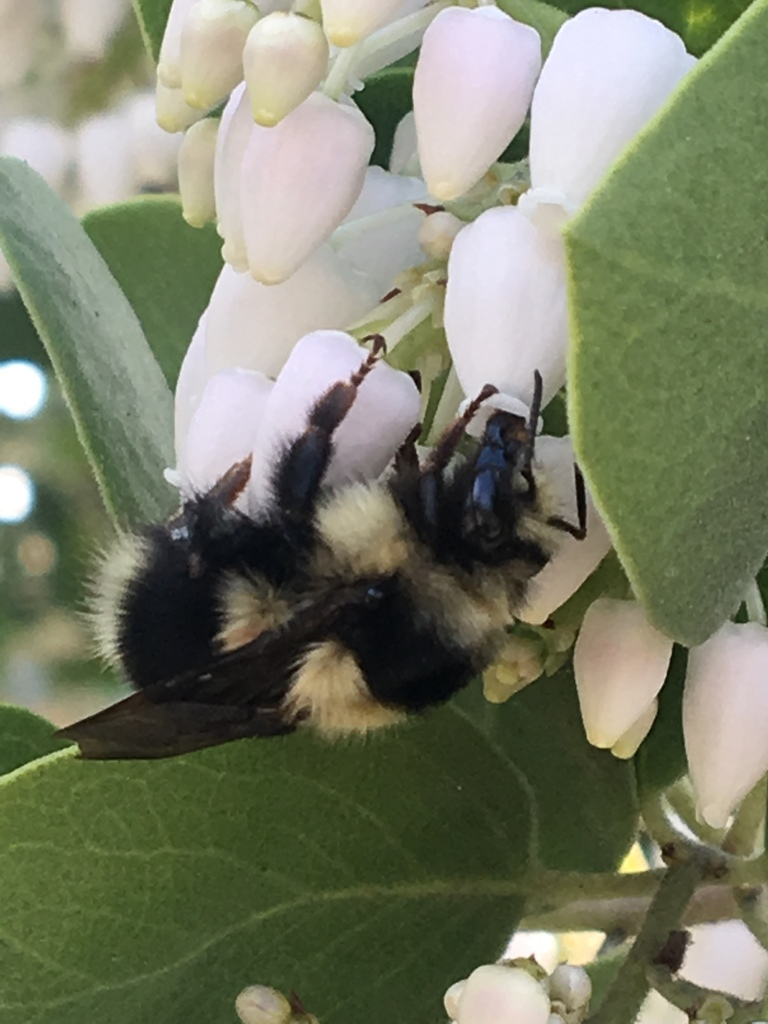bumblebee: (56, 333, 592, 764)
